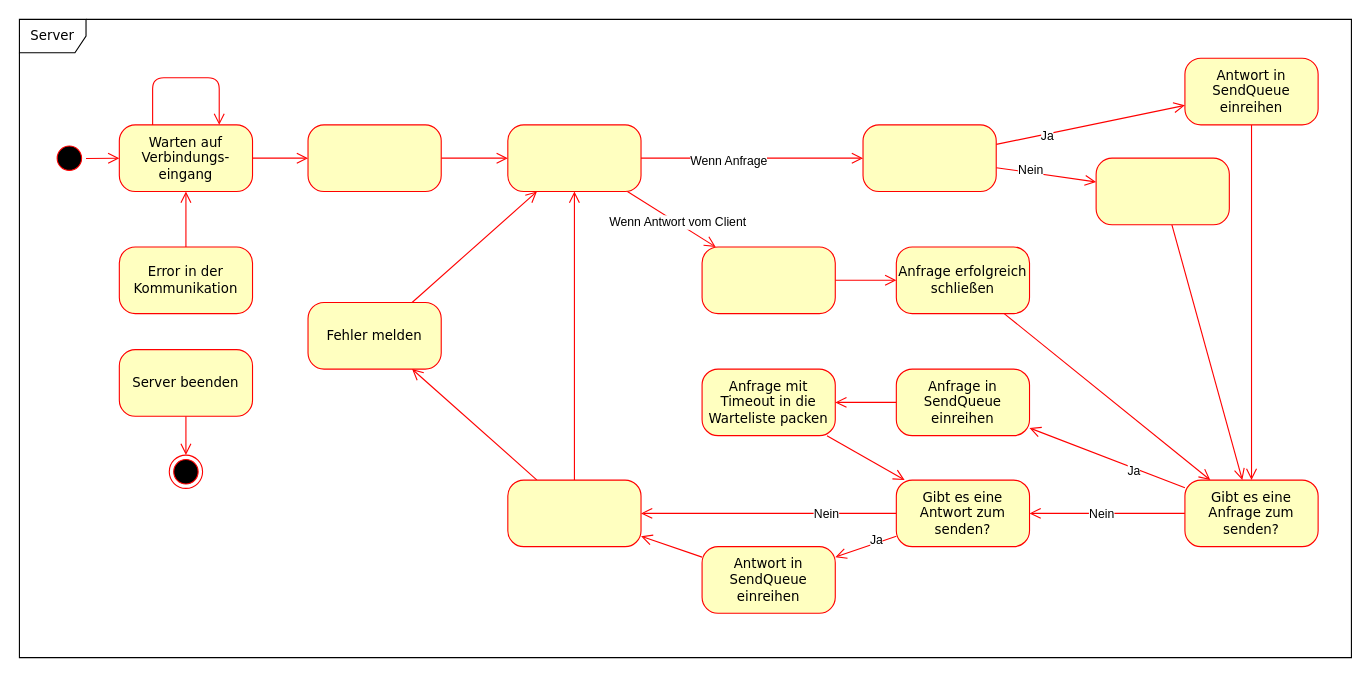
Image size: 1371x677. Some labels were removed from this diagram. The centre of each missing label's shape, as x and y in pixels:
Anfrage an System weitergeben: the point at 1162,191
AntwortQueue überprüfen: the point at 574,157
Kann Anfrage direkt beantwortet werden?: the point at 929,157
Verbindung erfolgreich: the point at 374,157
Warteliste auf ausgelaufene Nachrichten überprüfen: the point at 574,513
Über Warteliste iterieren: the point at 768,280
